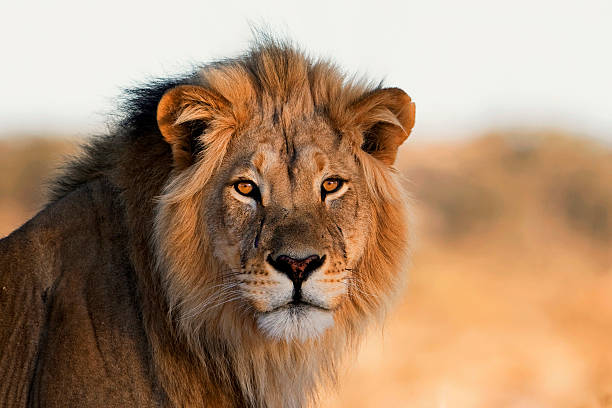lion: (109, 31, 446, 408)
